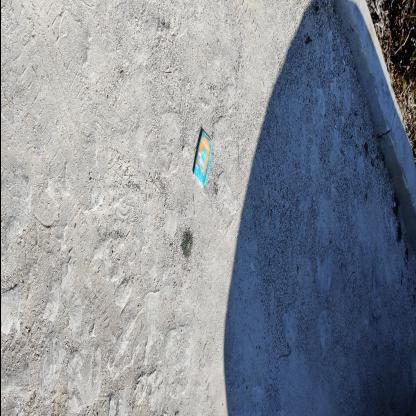plastik: (194, 132, 212, 190)
